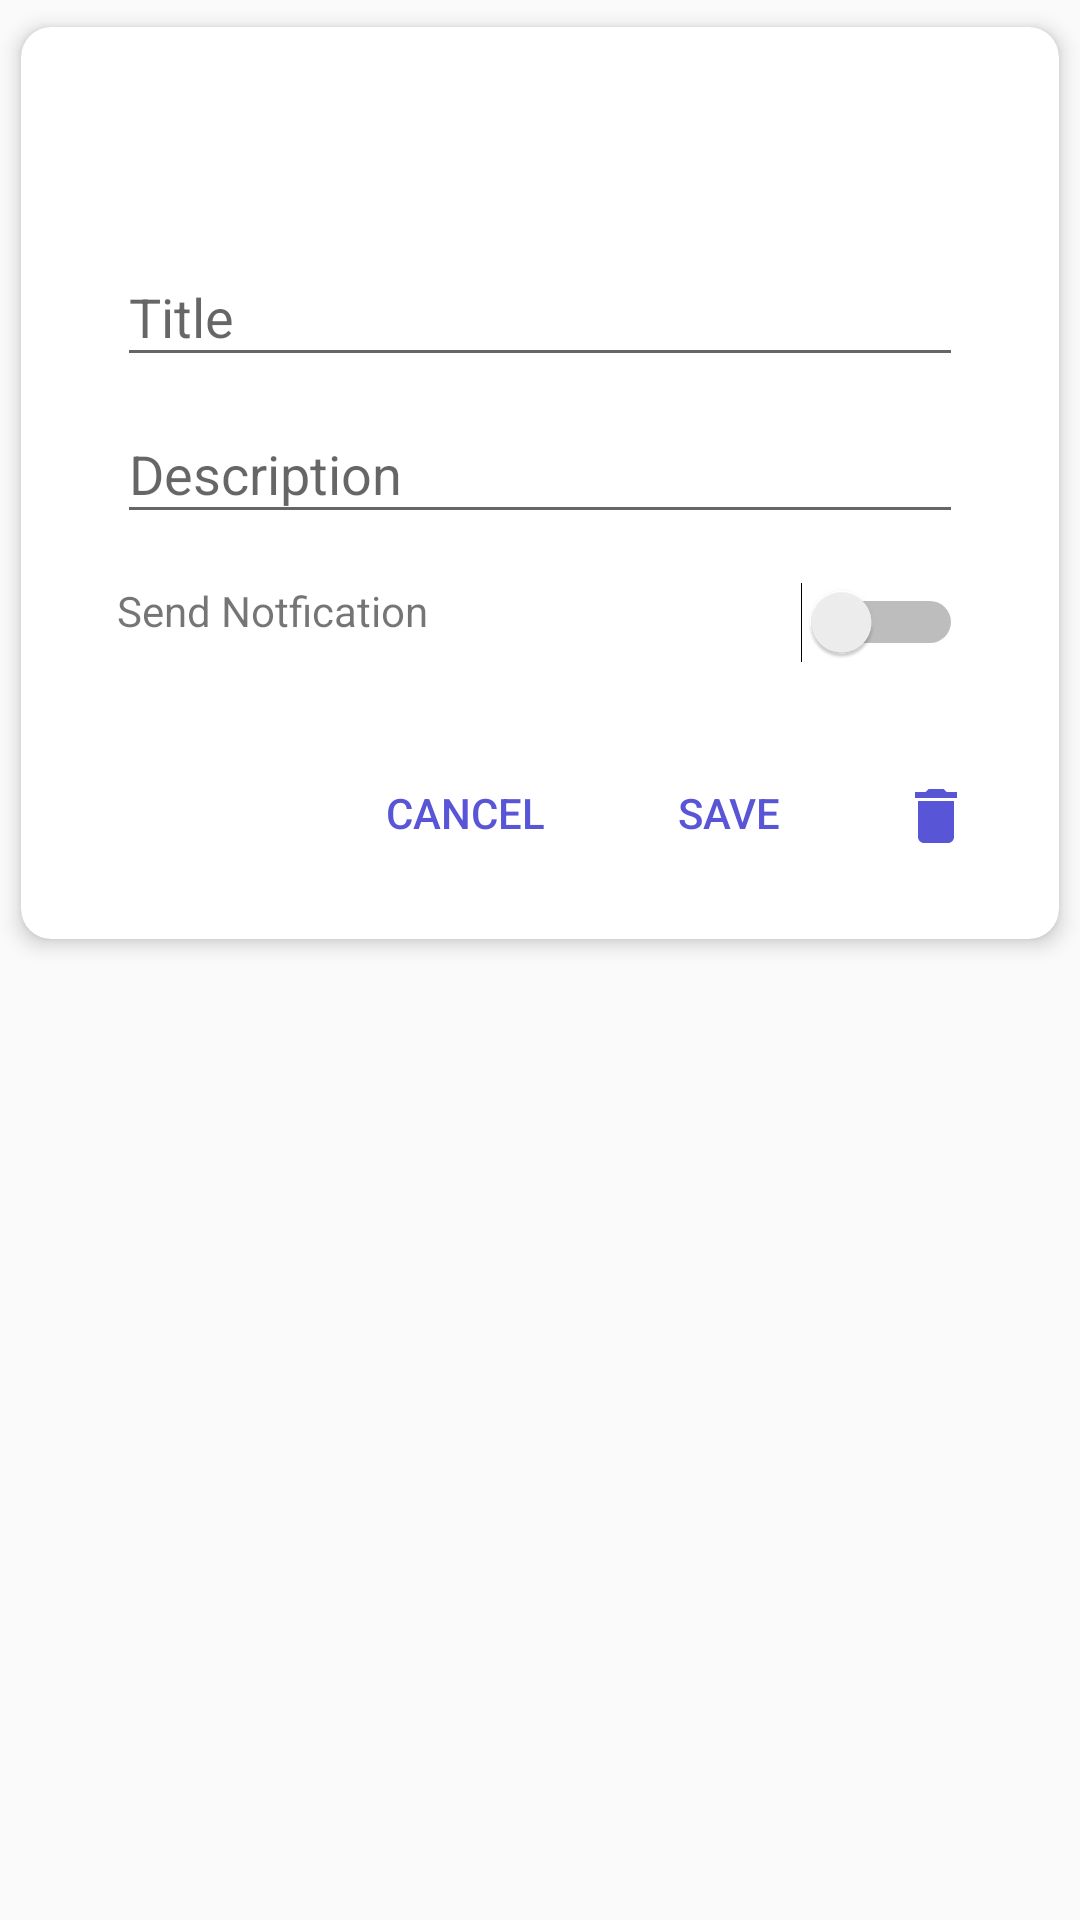

Named icons in this screenshot (1080px x 1920px) and their bounding boxes, (x1, y1, x2, y2):
delete: (915, 789, 957, 843)
